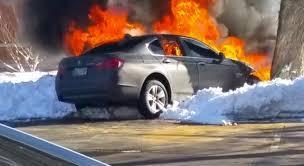fire: (61, 0, 280, 82)
